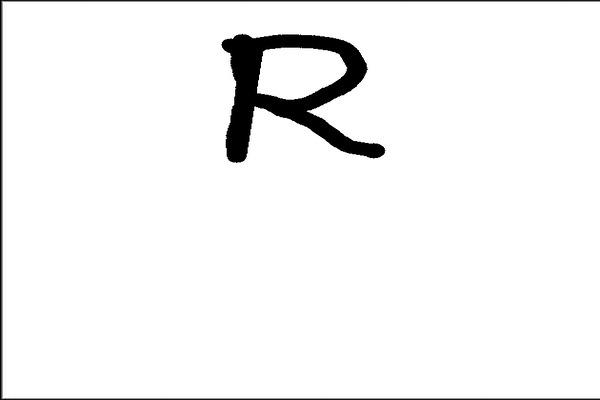R: (218, 23, 391, 169)
